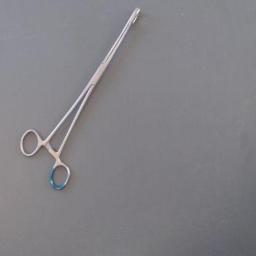Sponge Forceps: (14, 2, 146, 198)
